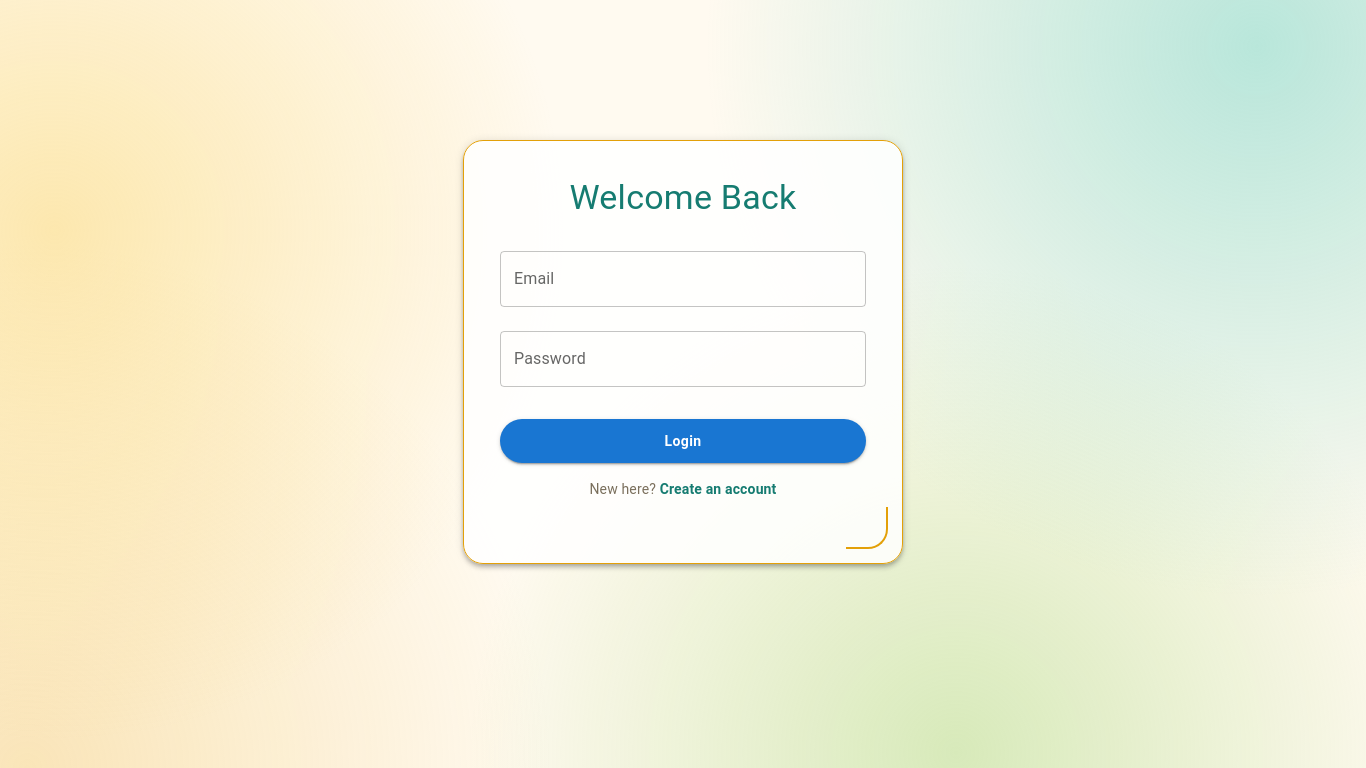
Login › should show an error for an invalid email
The image size is (1366, 768).
Type "not-an-email" into the field labelled "Email" at (683, 279), box [500, 251, 866, 307]
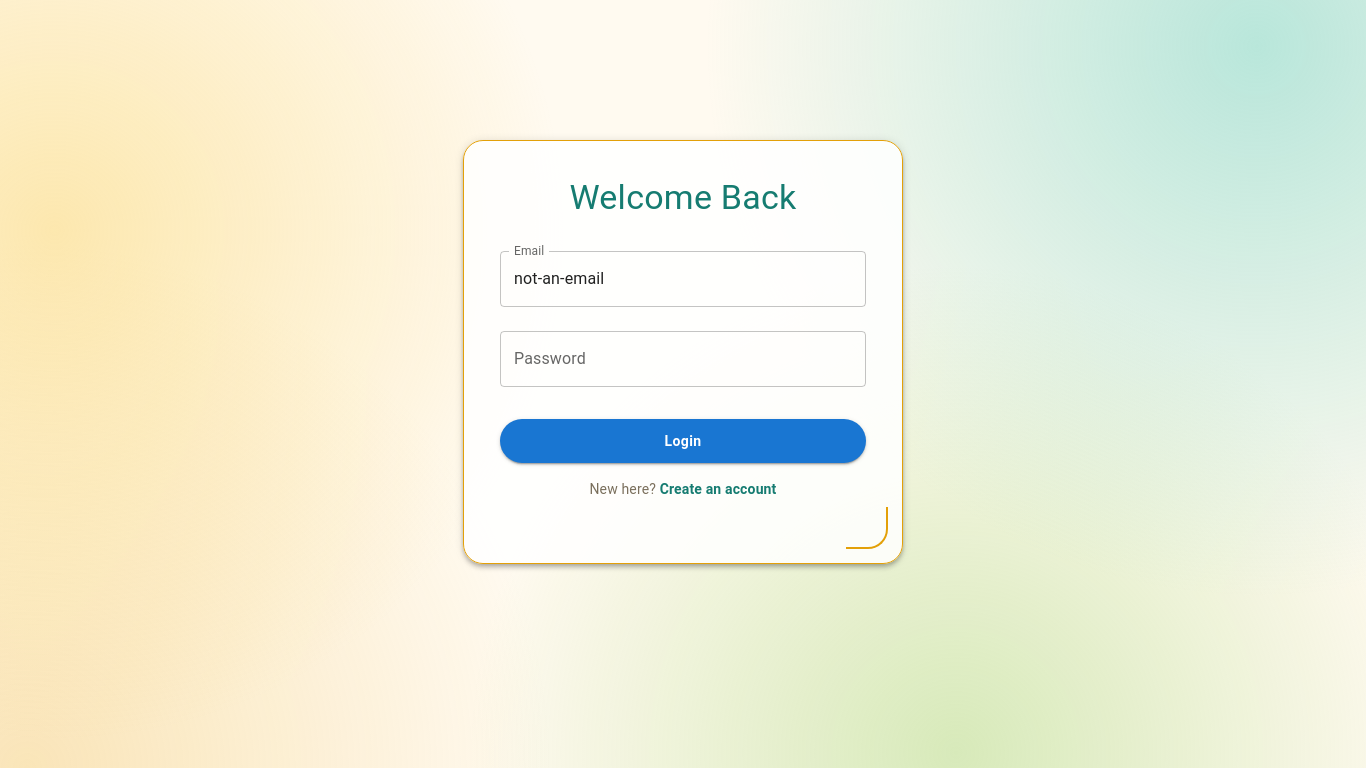
Type "1234" into the password field labelled "Password" at (683, 359), box [500, 331, 866, 387]
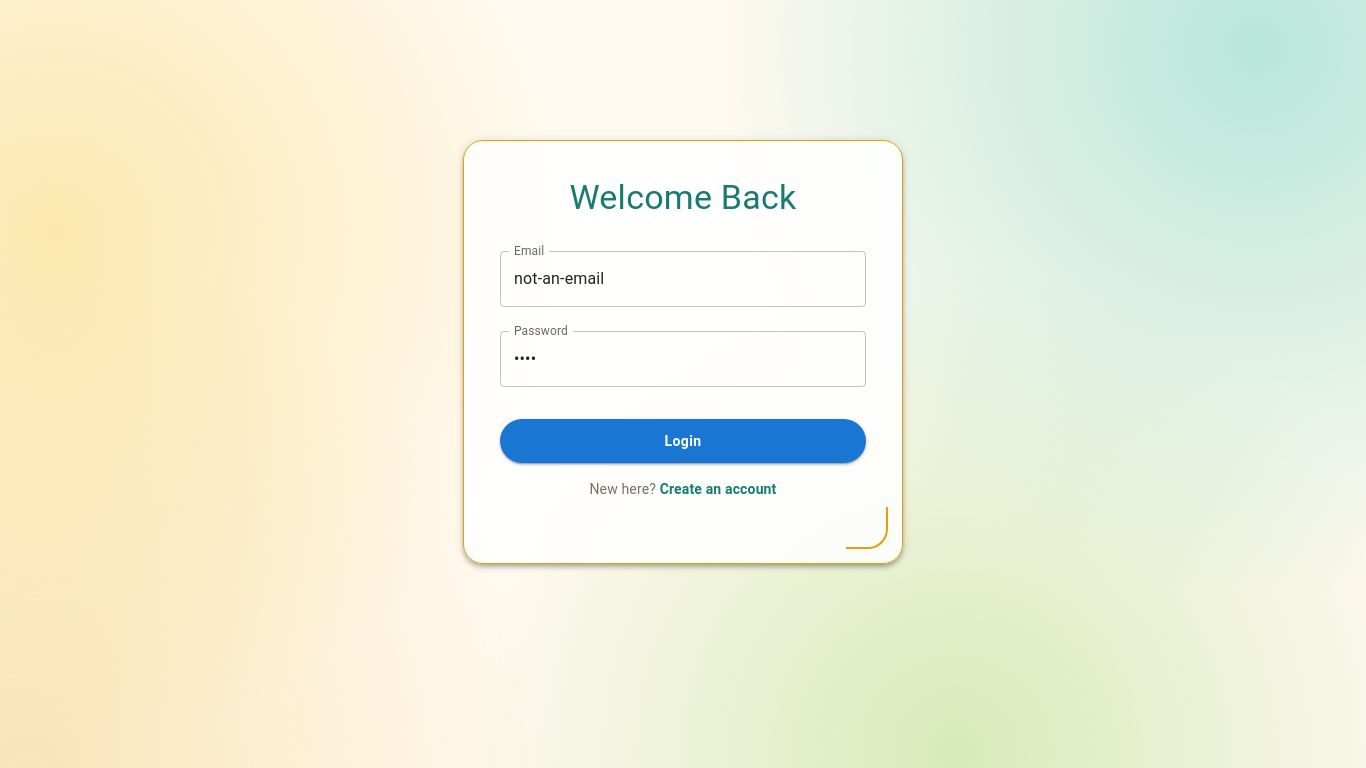
Click the button "Login" at (683, 441), box [500, 419, 866, 463]
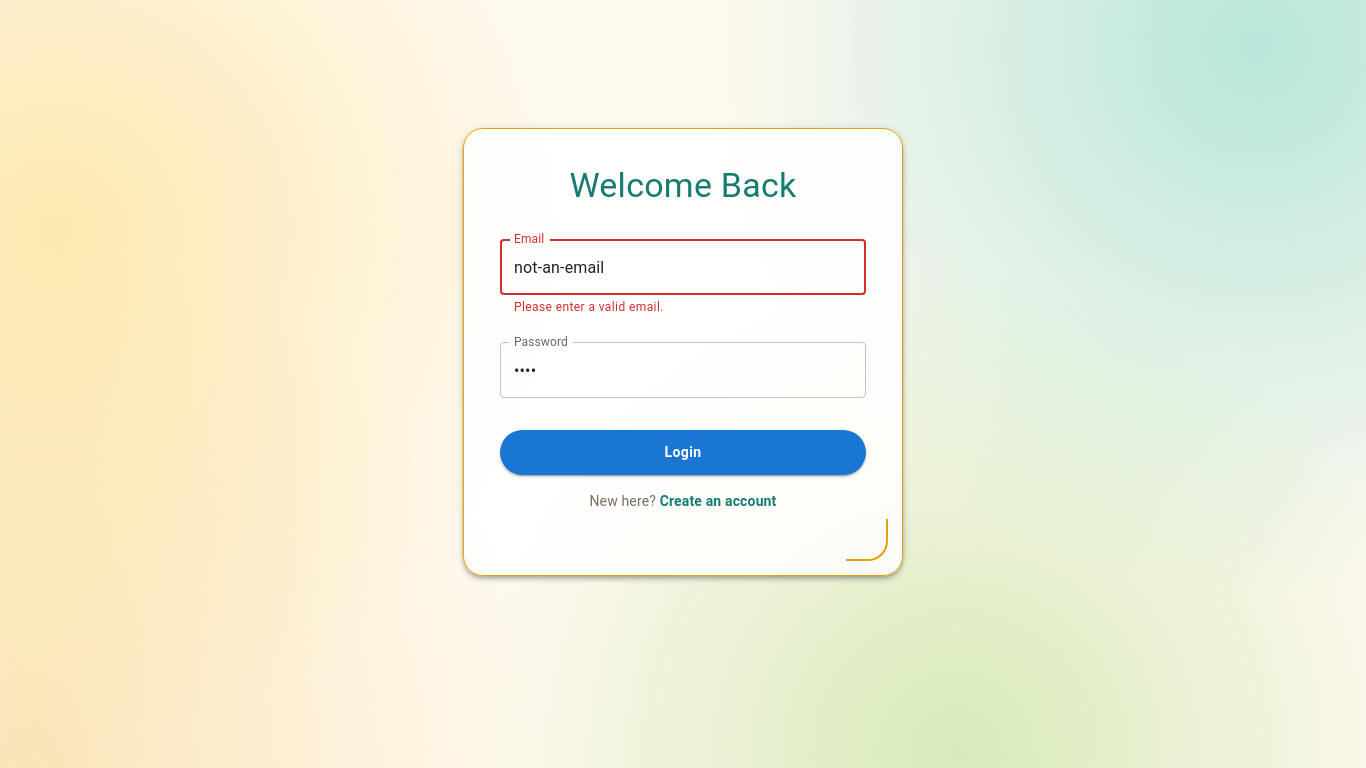
Now the text "Please enter a valid email." is shown, box [514, 300, 664, 314]
